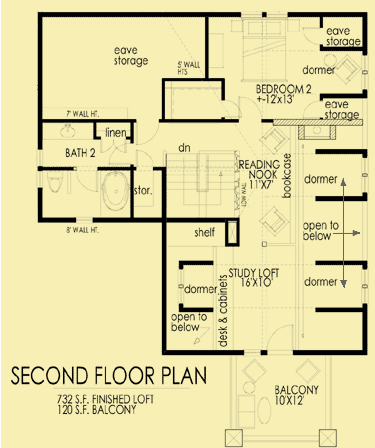bed: (241, 14, 288, 85)
door: (265, 324, 296, 354), (74, 164, 100, 193), (134, 120, 162, 146), (236, 96, 262, 123), (107, 143, 133, 166), (301, 27, 327, 46), (135, 150, 155, 173)
large_sink: (44, 167, 65, 193)
large_sofa: (235, 394, 256, 433)
small_sink: (42, 120, 95, 144)
small_sofa: (258, 125, 292, 158), (331, 53, 363, 86), (257, 206, 290, 237), (242, 356, 267, 387), (294, 357, 321, 385)
stairs: (166, 142, 241, 219)
tub: (100, 169, 130, 215)
window: (359, 156, 370, 195), (361, 267, 370, 303), (179, 269, 186, 303)
